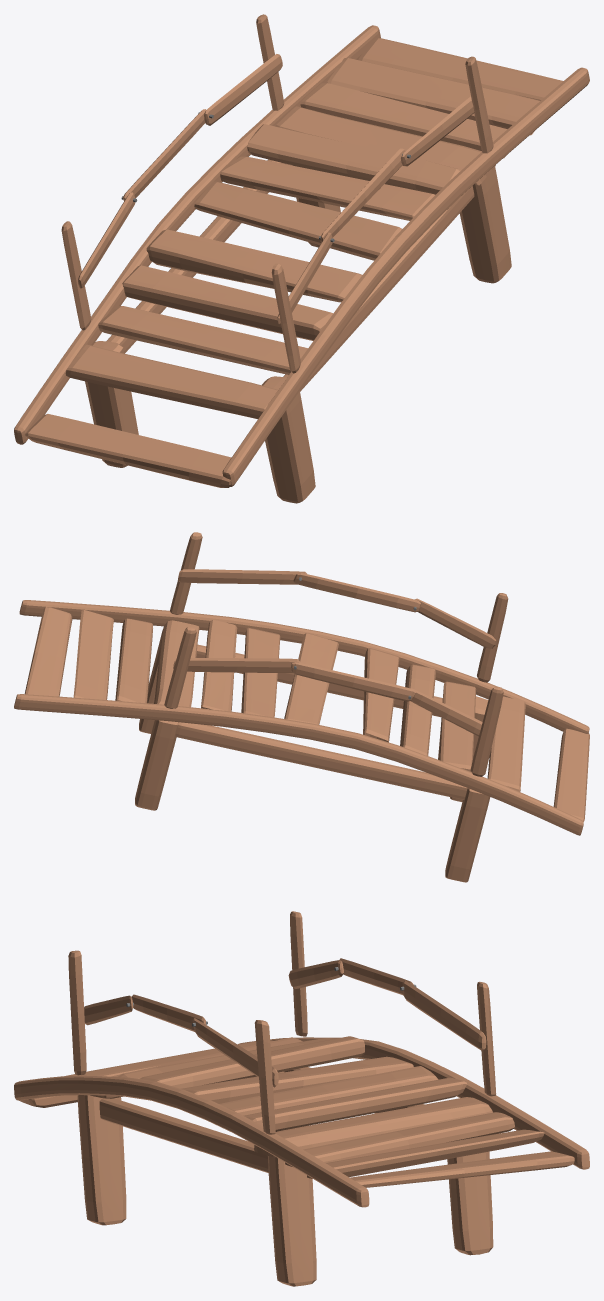
The picture shows the model from 3 angles, top to bottom: view 1: azimuth 30°, elevation 25°; view 2: azimuth 150°, elevation 25°; view 3: azimuth 270°, elevation 25°; orthographic projection. The views are drawn at different scales.
Parts seen in each view (by area): view 1: Ch01_Bridge; view 2: Ch01_Bridge; view 3: Ch01_Bridge.
Part boxes in pixels (x1,y1,x2,y2): Ch01_Bridge: (14, 14, 589, 503); Ch01_Bridge: (14, 532, 589, 882); Ch01_Bridge: (14, 911, 589, 1286).
Size of the model in its own units: 4.19 by 2.1 by 3.22.
